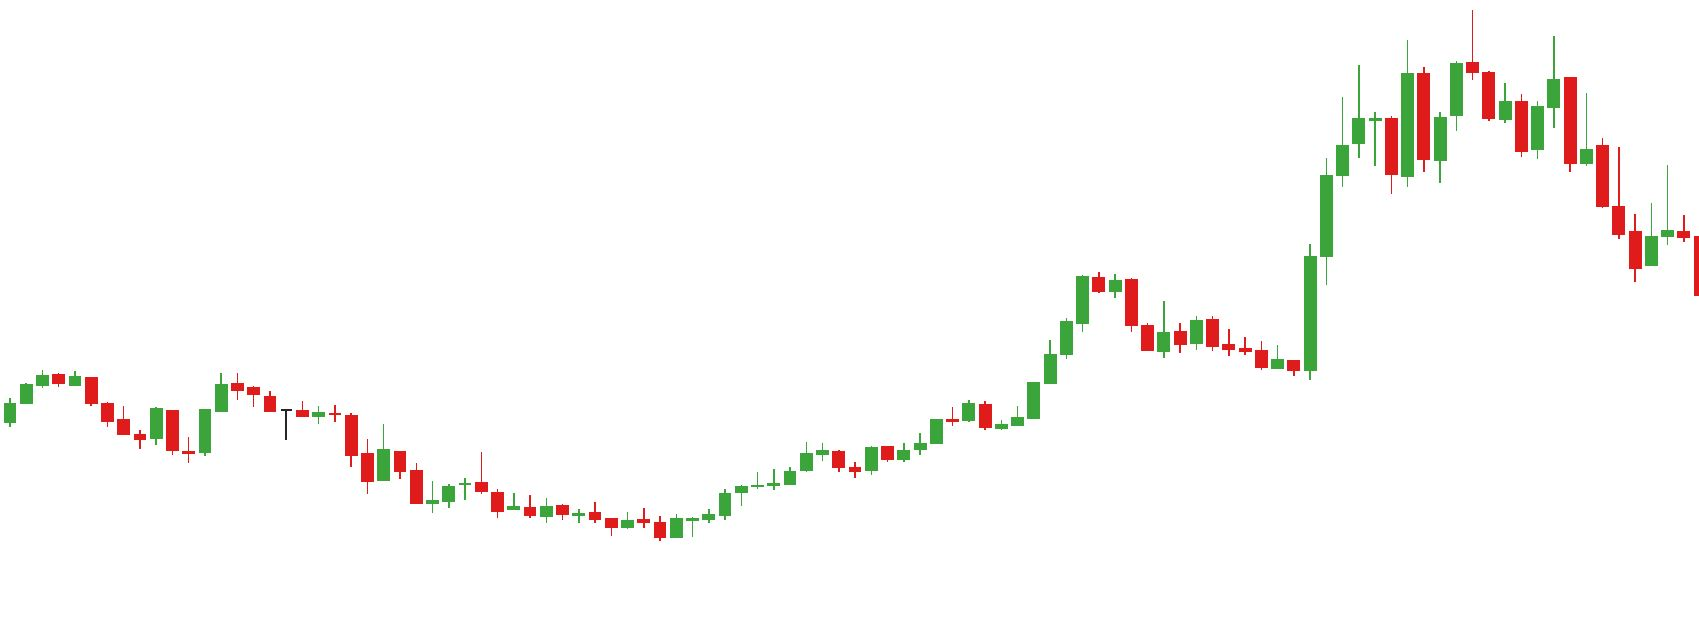sell: (1399, 8, 1481, 147)
